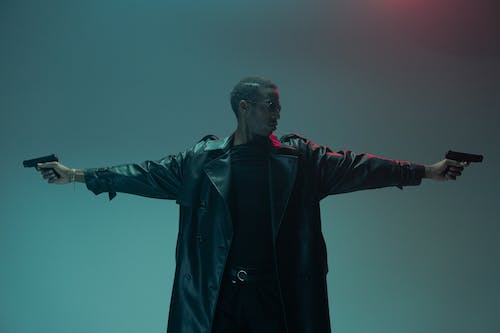gun: (21, 153, 62, 185), (443, 149, 485, 176)
